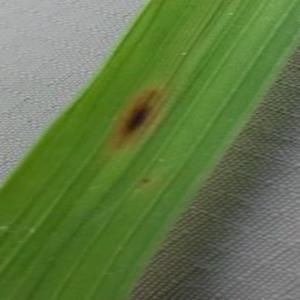Brown_Spot: (98, 80, 174, 155), (132, 172, 158, 187)
